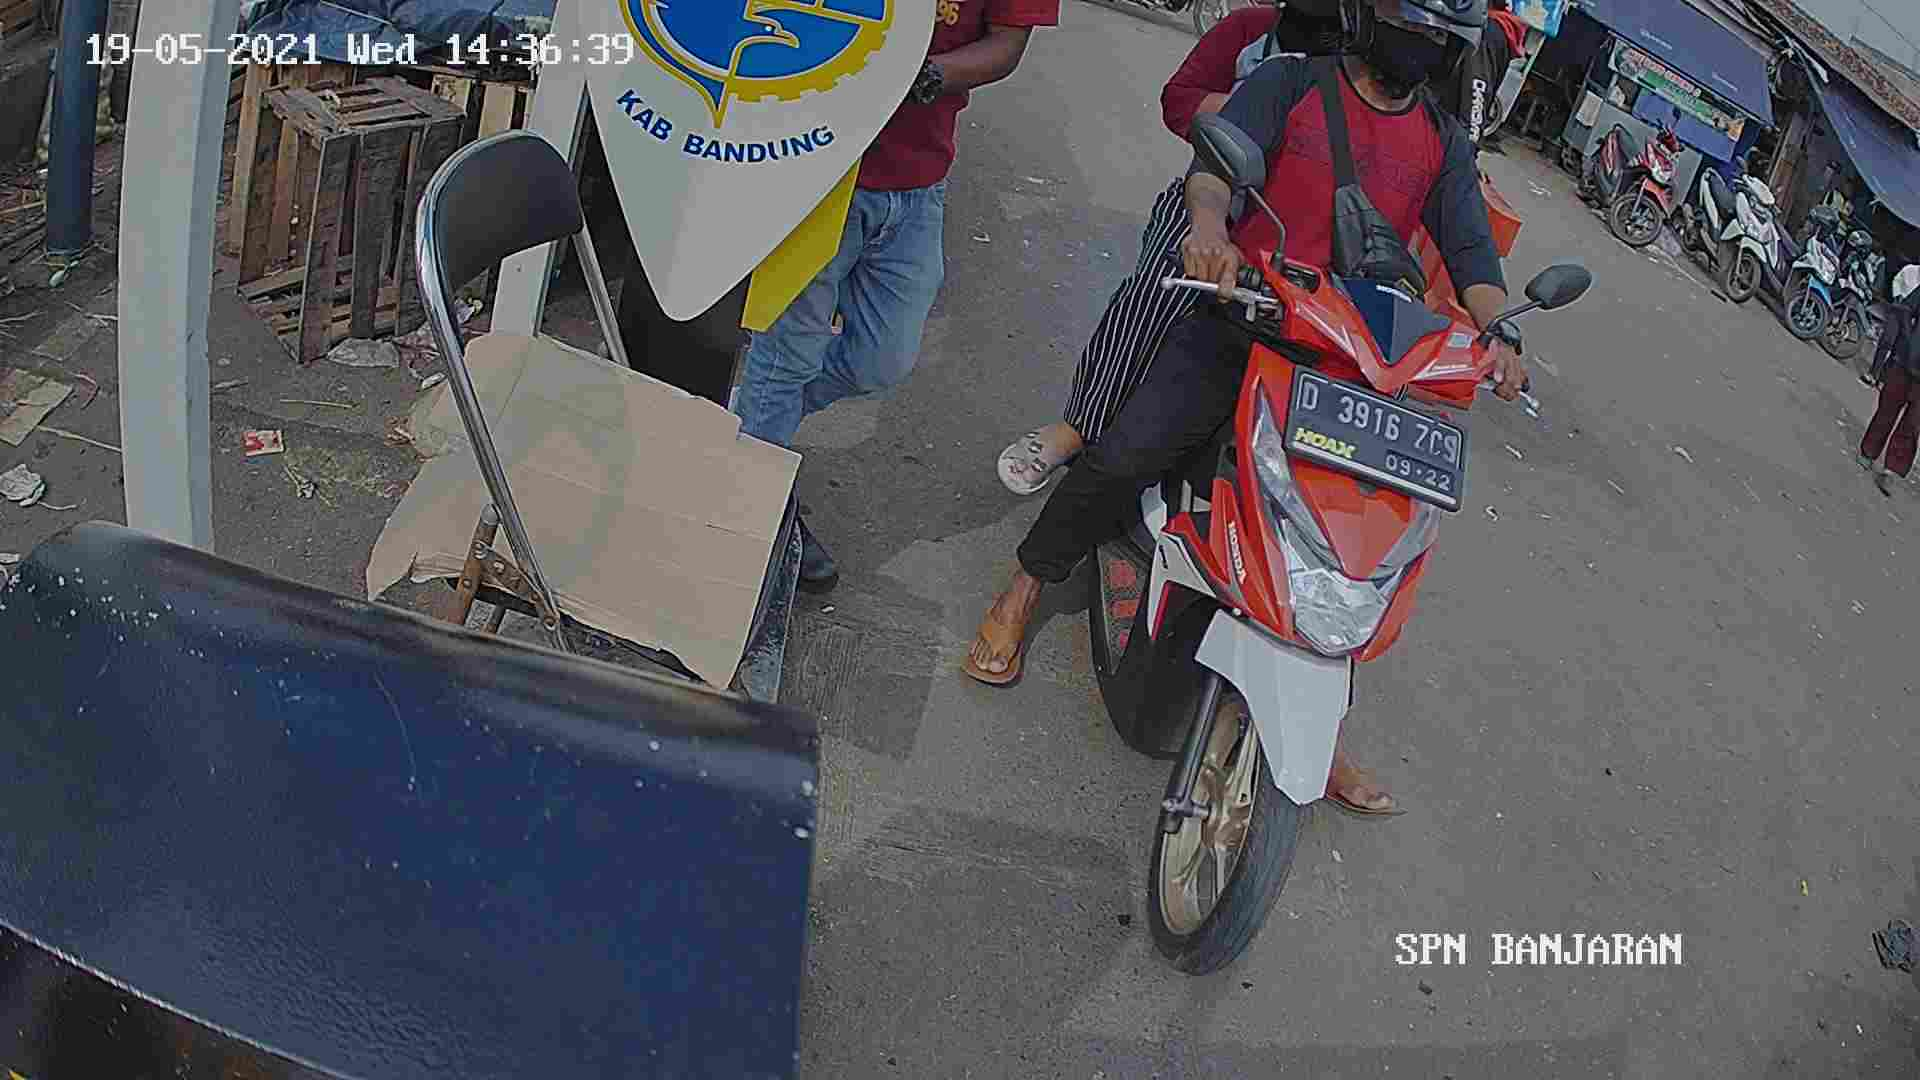motor: (1007, 171, 1494, 910)
